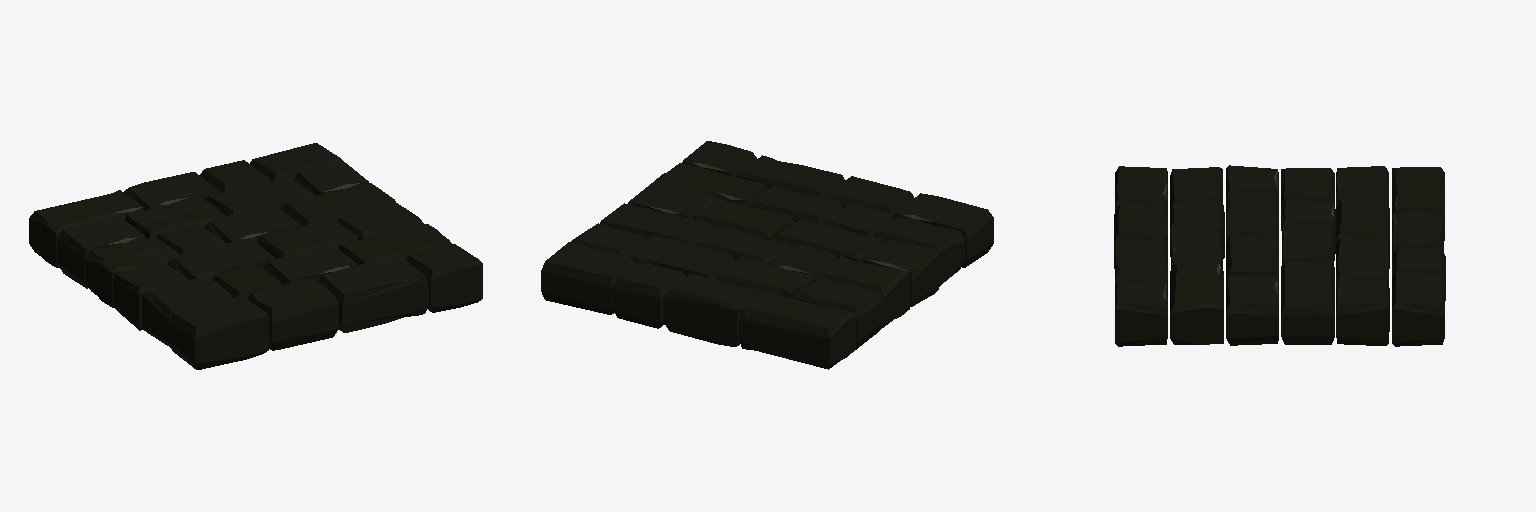
Rendered from Floor_Standard.obj.
3 views of the same model, side by side, from view 1: azimuth 30°, elevation 25°; view 2: azimuth 150°, elevation 25°; view 3: azimuth 270°, elevation 25° (orthographic).
Parts seen in each view (by area): view 1: Floor_Standard; view 2: Floor_Standard; view 3: Floor_Standard.
Boxes of the visible parts, x1=… form: Floor_Standard: x1=29, y1=143, x2=482, y2=369; Floor_Standard: x1=541, y1=141, x2=993, y2=369; Floor_Standard: x1=1114, y1=165, x2=1445, y2=346.
Size of the model in its own units: 1.99 by 0.2859 by 1.98.